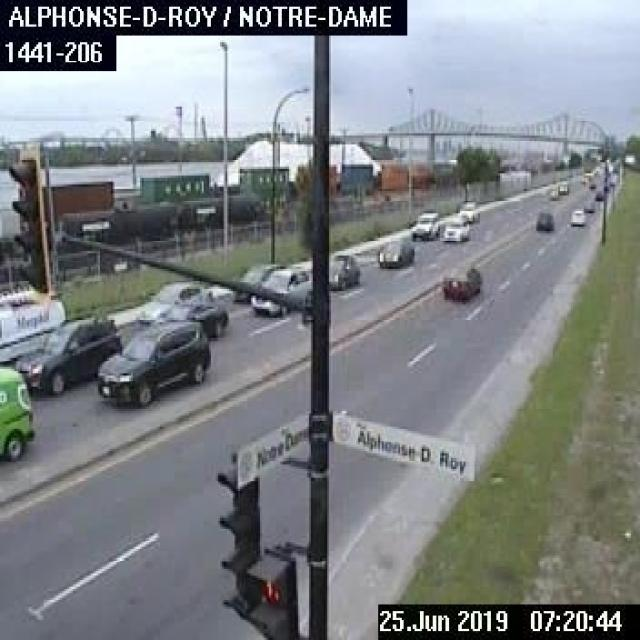vehicle: (91, 313, 209, 409), (10, 312, 122, 398), (132, 276, 236, 339), (0, 284, 69, 366), (0, 363, 36, 463), (251, 268, 311, 318), (440, 262, 482, 300), (325, 249, 362, 289), (376, 238, 414, 264), (411, 206, 441, 238), (440, 212, 470, 243), (454, 197, 478, 220), (534, 209, 554, 231)
